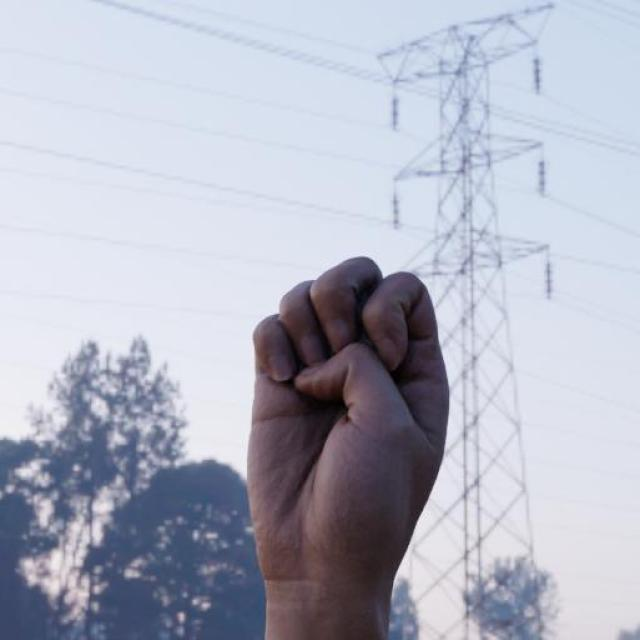E: (240, 252, 454, 599)
